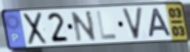2: (46, 12, 71, 44)
A: (148, 7, 173, 39)
L: (95, 10, 119, 42)
N: (70, 10, 98, 43)
V: (120, 6, 144, 41)
X: (22, 11, 49, 47)
